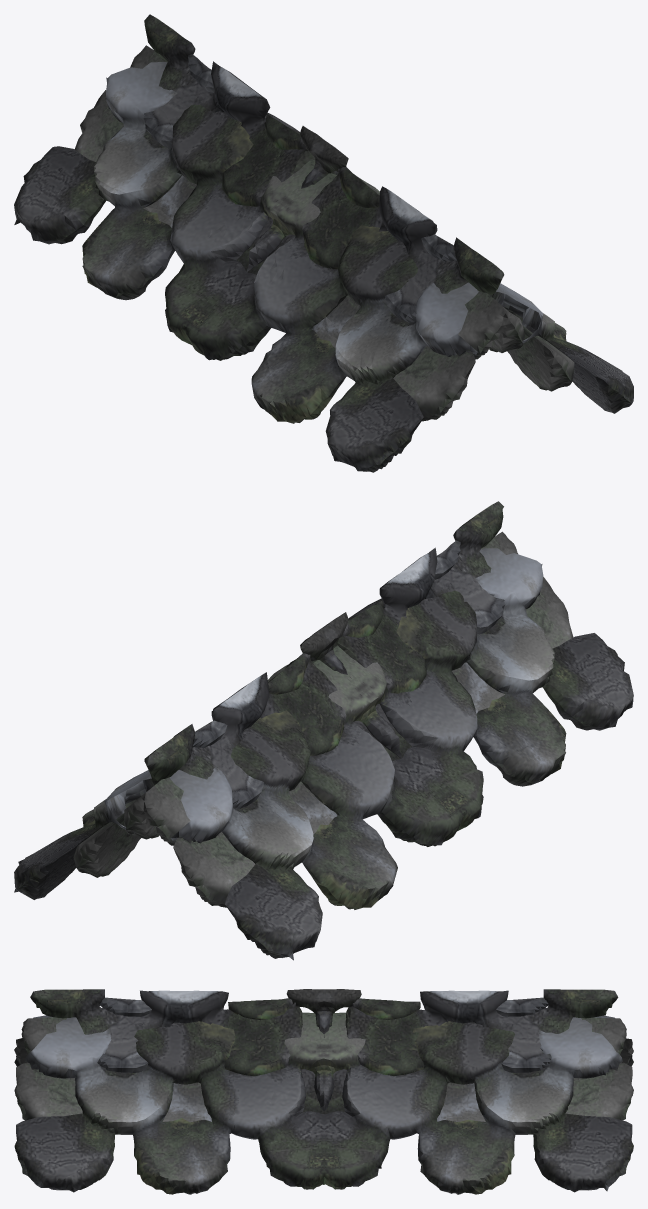
File: SM_Roof_Cap_03.fbx
3 renders of one model, top to bottom at view 1: azimuth 30°, elevation 25°; view 2: azimuth 150°, elevation 25°; view 3: azimuth 270°, elevation 25°, orthographic. The views are drawn at different scales.
Visible parts, largest first — view 1: SM_Roof_Cap_03_LOD0; view 2: SM_Roof_Cap_03_LOD0; view 3: SM_Roof_Cap_03_LOD0.
Part boxes in pixels (x1=…): SM_Roof_Cap_03_LOD0: x1=14, y1=14, x2=633, y2=472; SM_Roof_Cap_03_LOD0: x1=14, y1=501, x2=633, y2=960; SM_Roof_Cap_03_LOD0: x1=14, y1=989, x2=633, y2=1194.
Size of the model in its own units: 89.75 by 195 by 53.45.
